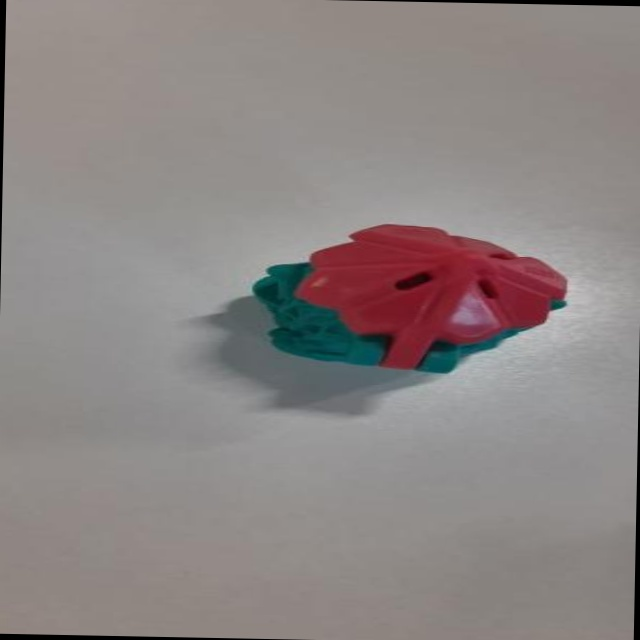House: (243, 222, 582, 380)
